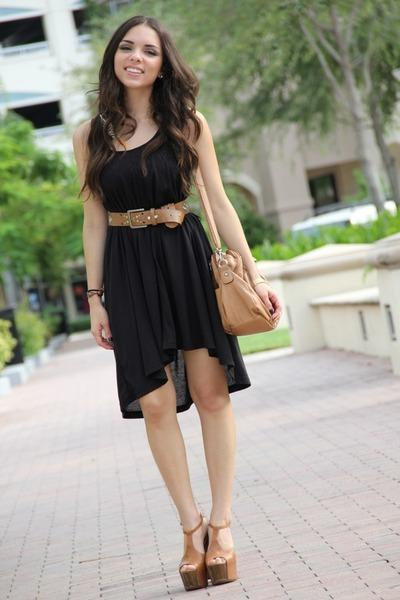bag: (208, 223, 278, 335)
dress: (95, 122, 250, 418)
shoe: (179, 514, 235, 586)
